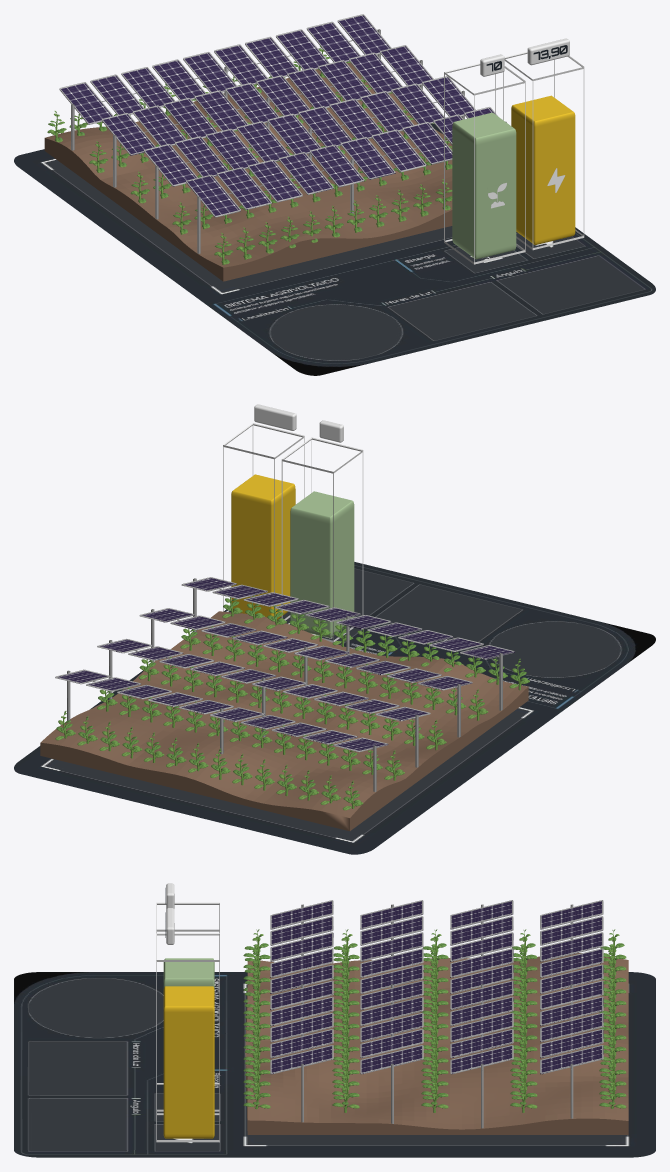
Rendered from costarica+verano+15.glb.
The picture shows the model from 3 angles, top to bottom: view 1: azimuth 30°, elevation 25°; view 2: azimuth 150°, elevation 25°; view 3: azimuth 270°, elevation 25°; orthographic projection. The views are drawn at different scales.
Visible parts, largest first — view 1: panelpintado.003 (×2), Tablero, Cube, Box, Box 1, Cube.001 (×2), Cube.002, Box 2; view 2: Cube, Tablero, panelpintado.003 (×2), Box, Box 1, Cube.001 (×2), Cube.002, Box 2; view 3: Tablero, panelpintado.003 (×2), Cube, Box 1, Cube.001 (×2), Box, Cube.002.
Part boxes in pixels (left/top/right/bottom): panelpintado.003 (×2): left=59, top=14, right=497, bottom=217; Tablero: left=14, top=124, right=655, bottom=375; Cube: left=44, top=62, right=452, bottom=281; Box: left=452, top=112, right=516, bottom=259; Box 1: left=511, top=95, right=575, bottom=245; Cube.001 (×2): left=71, top=29, right=525, bottom=264; Cube.002: left=503, top=51, right=584, bottom=250; Box 2: left=527, top=38, right=569, bottom=65; Cube: left=40, top=611, right=528, bottom=831; Tablero: left=14, top=562, right=655, bottom=854; panelpintado.003 (×2): left=55, top=577, right=514, bottom=752; Box: left=290, top=491, right=354, bottom=638; Box 1: left=231, top=474, right=295, bottom=619; Cube.001 (×2): left=67, top=437, right=502, bottom=792; Cube.002: left=223, top=423, right=304, bottom=620; Box 2: left=254, top=404, right=296, bottom=430; Tablero: left=14, top=972, right=655, bottom=1157; panelpintado.003 (×2): left=270, top=900, right=603, bottom=1074; Cube: left=245, top=953, right=628, bottom=1134; Box 1: left=163, top=986, right=214, bottom=1138; Cube.001 (×2): left=156, top=902, right=573, bottom=1128; Box: left=163, top=958, right=214, bottom=988; Cube.002: left=156, top=933, right=219, bottom=1142.
Size of the model in its own units: 0.2418 by 0.1326 by 0.3537.
Materials: 16 (5 with a texture image).
